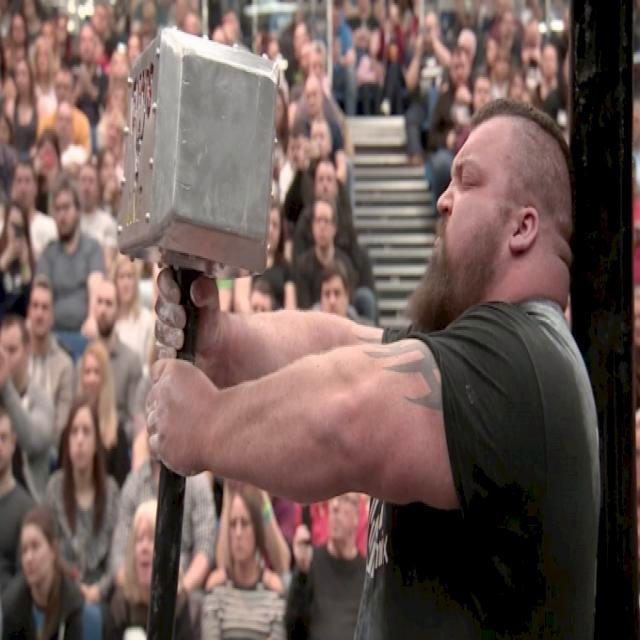hammer: (120, 3, 296, 640)
